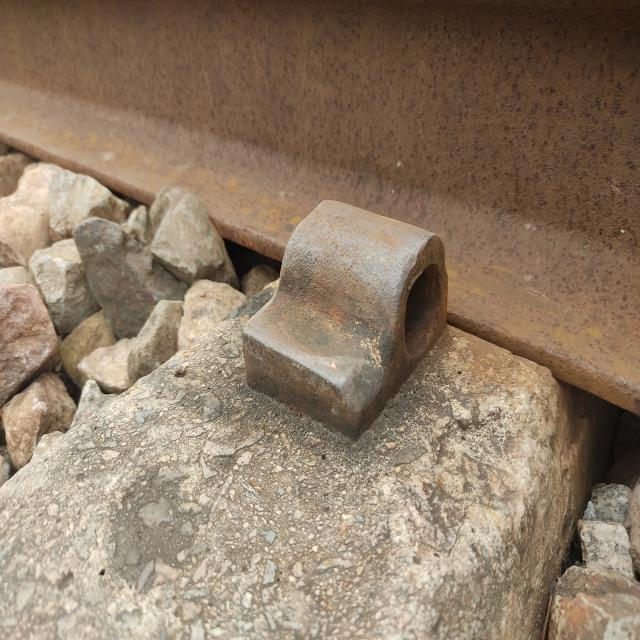fault: (237, 190, 458, 446)
